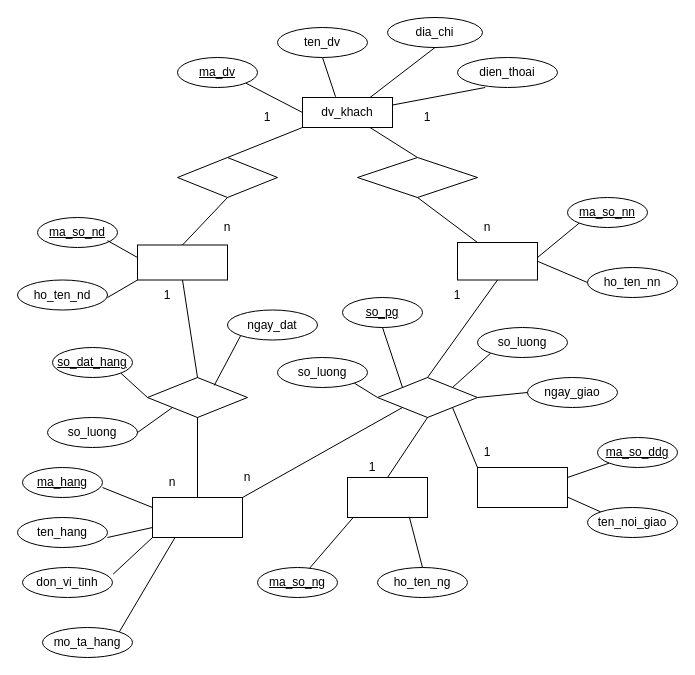
This 695x675 diagram has some shape labels left out. The centre of each missing label's shape, as x and y in pixels:
"dat" goes at (x=197, y=397).
"giao" goes at (x=427, y=397).
"hang" goes at (x=197, y=517).
"nguoi_dat" goes at (x=182, y=262).
"nguoi_giao" goes at (x=387, y=497).
"nguoi_nhan" goes at (x=497, y=261).
"noi_giao" goes at (x=522, y=487).
"thuoc_1" goes at (x=227, y=177).
"thuoc_2" goes at (x=417, y=177).
